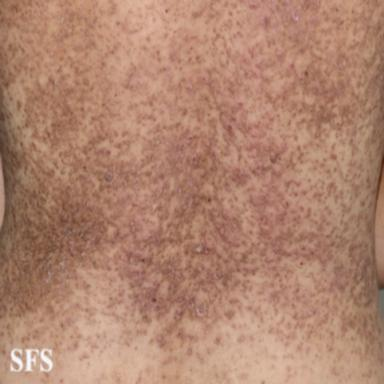Darier_s-Disease: (0, 2, 384, 372)
